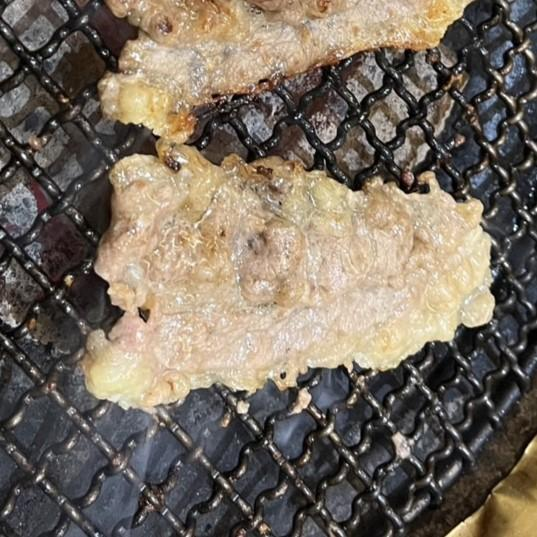Well-Cooked: (85, 147, 495, 412), (100, 0, 462, 174)
